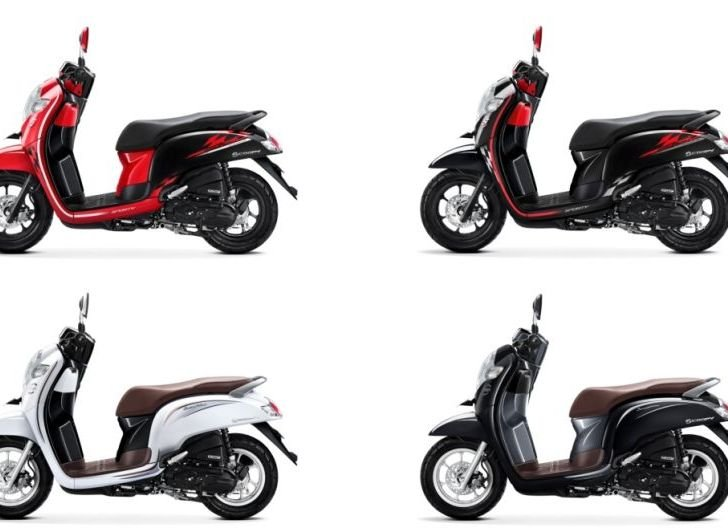motor: (420, 33, 728, 254), (1, 42, 301, 255), (418, 316, 728, 519), (1, 316, 293, 520)
